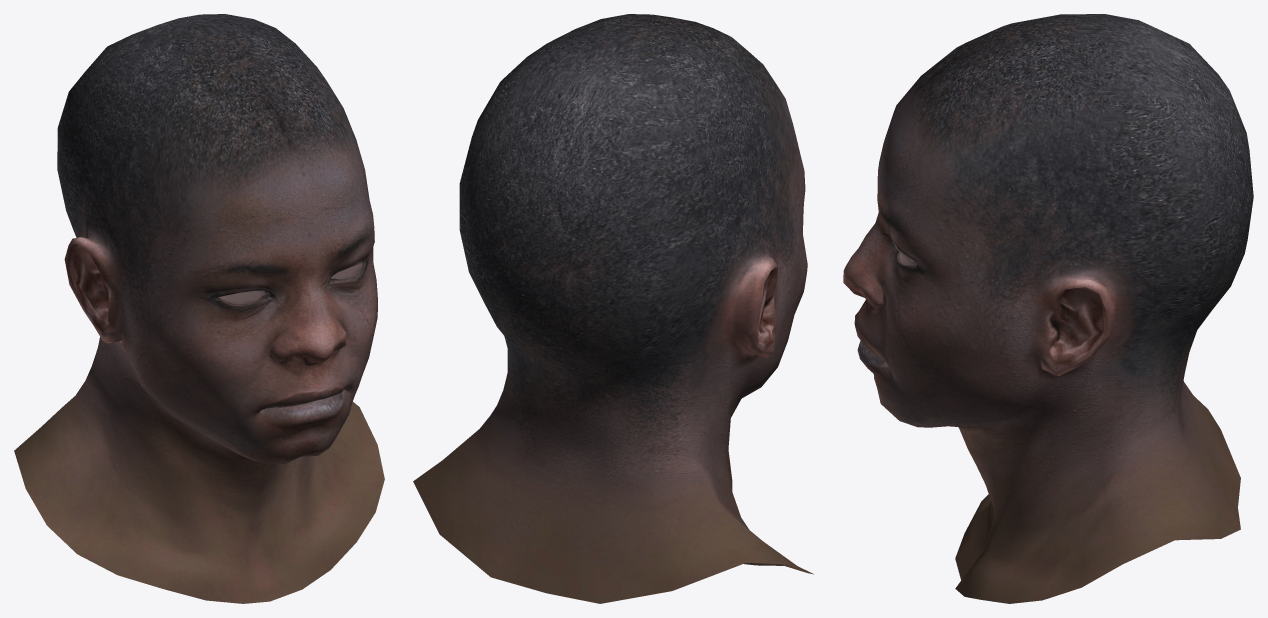
The model's file is african_head.obj.
3 views of the same model, side by side, from view 1: azimuth 30°, elevation 25°; view 2: azimuth 150°, elevation 25°; view 3: azimuth 270°, elevation 25° (orthographic). The views are drawn at different scales.
Visible parts, largest first — view 1: head; view 2: head; view 3: head.
Part boxes in pixels (x1,y1,x2,y2): head: (14, 14, 384, 603); head: (413, 14, 813, 603); head: (843, 14, 1253, 603).
Bounding box in the file's own units: 1.32 × 2 × 1.35.
